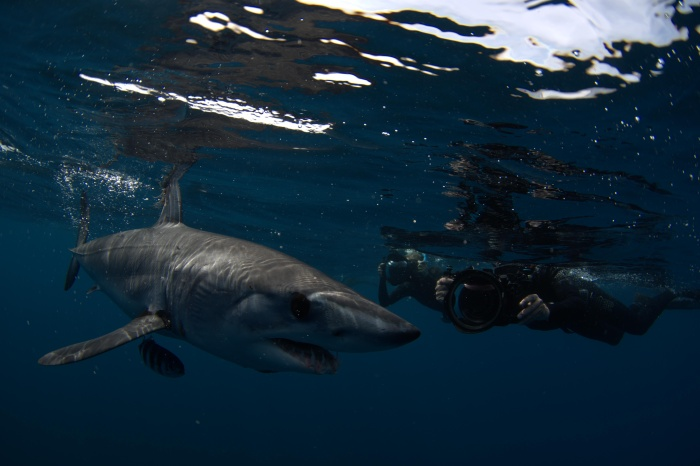Mako: (38, 171, 424, 405)
